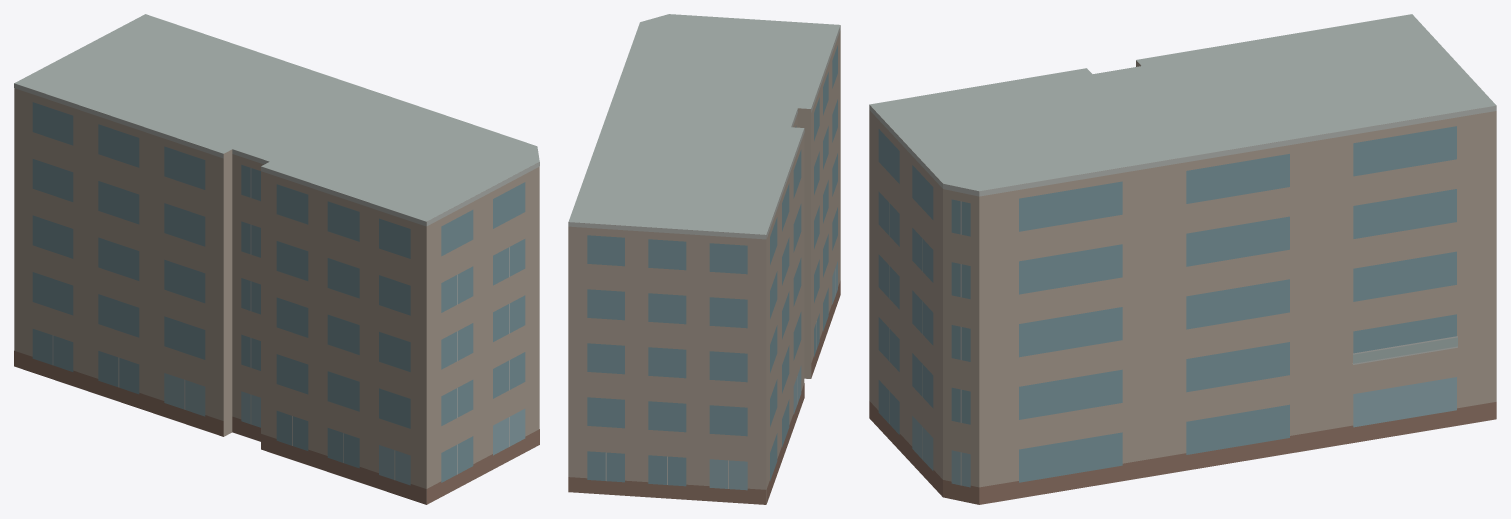
The model's file is survey-upis-32956614.glb.
3 views of the same model, side by side, from view 1: azimuth 30°, elevation 25°; view 2: azimuth 150°, elevation 25°; view 3: azimuth 270°, elevation 25° (orthographic). The views are drawn at different scales.
Parts seen in each view (by area): view 1: survey-upis-32956614.tmp; view 2: survey-upis-32956614.tmp; view 3: survey-upis-32956614.tmp.
Boxes of the visible parts, bbox=[...] form: survey-upis-32956614.tmp: bbox=[14, 14, 539, 504]; survey-upis-32956614.tmp: bbox=[568, 14, 840, 504]; survey-upis-32956614.tmp: bbox=[869, 14, 1496, 504].
Bounding box in the file's own units: 17.52 × 14.45 × 26.21.
